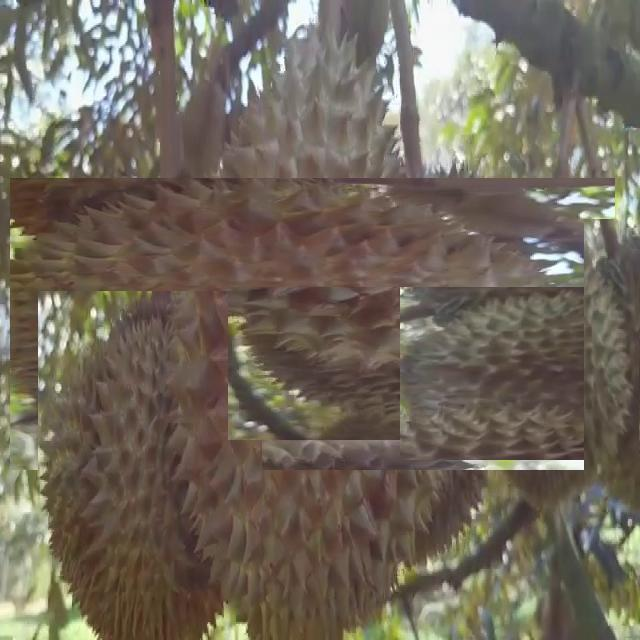durian: (88, 99, 536, 549), (298, 217, 591, 510), (38, 291, 262, 638), (431, 255, 640, 491), (584, 219, 639, 522)
